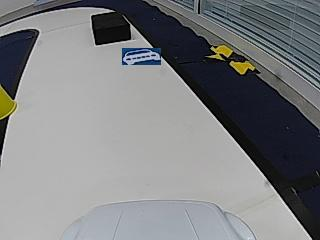block: (91, 11, 130, 44)
cone: (0, 85, 17, 118)
